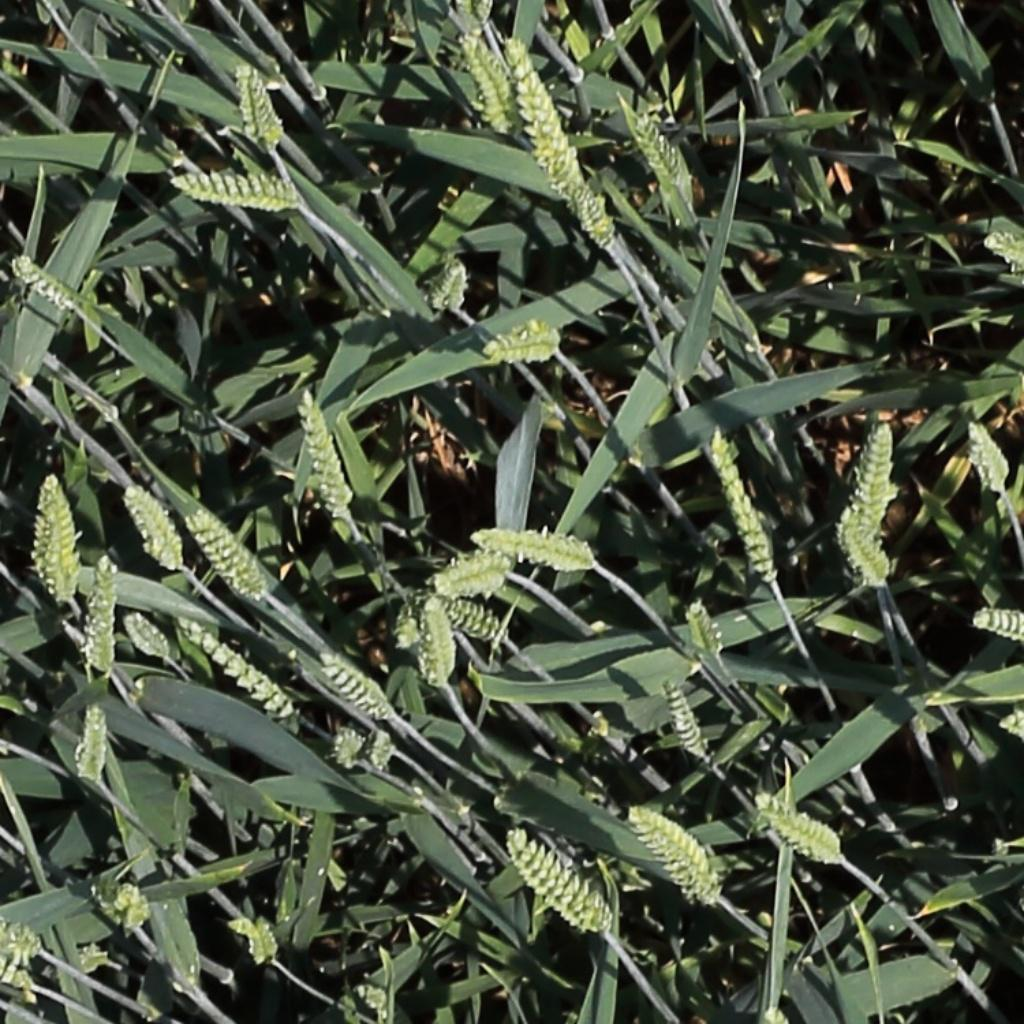0-0: (503, 34, 591, 208), (178, 618, 301, 731), (708, 424, 783, 588), (506, 830, 610, 935), (629, 808, 720, 905), (296, 385, 353, 516), (185, 510, 268, 599), (166, 172, 321, 219), (755, 794, 843, 866), (121, 481, 188, 572), (30, 473, 76, 603), (457, 31, 517, 126), (320, 649, 395, 724), (632, 105, 692, 188), (660, 677, 714, 767), (478, 317, 570, 367), (860, 419, 897, 539), (473, 531, 596, 567), (841, 512, 895, 591), (963, 412, 1013, 496), (233, 60, 279, 150), (10, 255, 79, 312), (416, 593, 457, 686), (432, 554, 513, 601), (87, 551, 116, 679), (0, 914, 46, 989), (572, 177, 618, 251), (435, 595, 506, 640), (685, 593, 726, 666), (121, 607, 174, 663), (431, 247, 469, 318), (79, 697, 106, 790), (365, 723, 397, 779), (117, 876, 146, 936), (251, 912, 278, 973), (331, 726, 365, 774), (983, 230, 1024, 263), (972, 613, 1024, 637), (752, 1002, 795, 1024)
